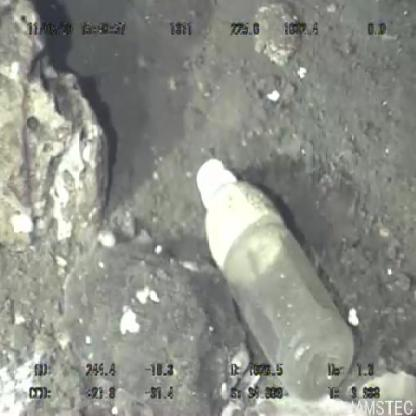Rác: (194, 155, 358, 409)
